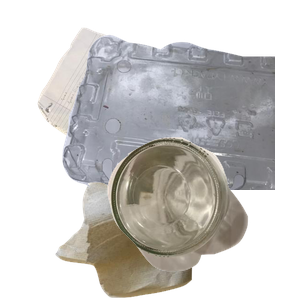glass: (105, 135, 300, 300)
paper: (35, 25, 232, 204)
plastic: (60, 32, 300, 212)
trash: (53, 121, 239, 300)
